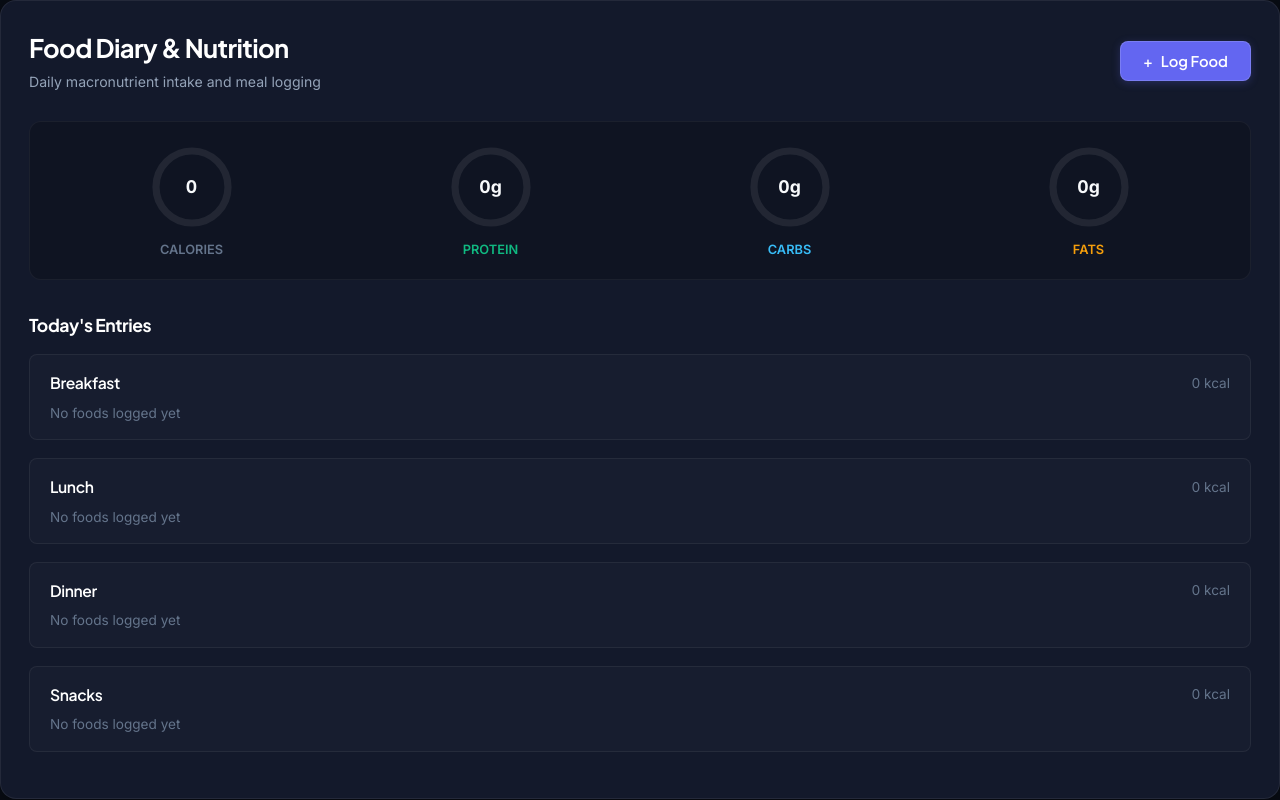
Test: NutritionLogger Component › opens the Add Food modal when Log Food button is clicked
Click the button "+ Log Food": (1186, 61) left=1120, top=41, right=1251, bottom=81
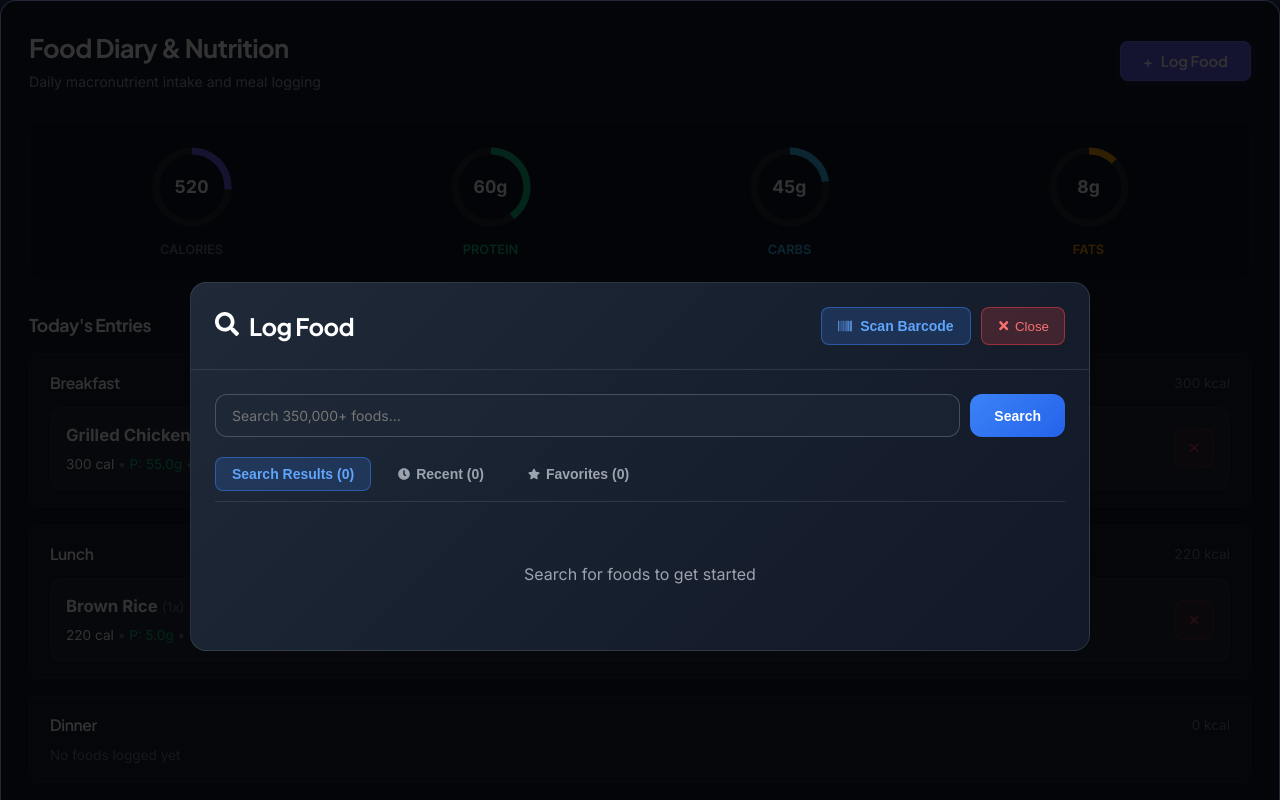
Now the heading "Log Food" is shown, box left=215, top=308, right=354, bottom=344
